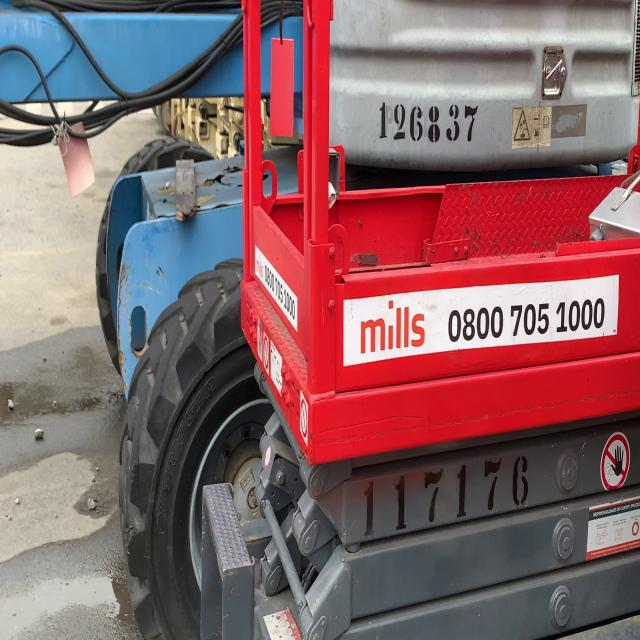Adesivo Longo: (342, 272, 620, 369), (254, 243, 298, 335)
